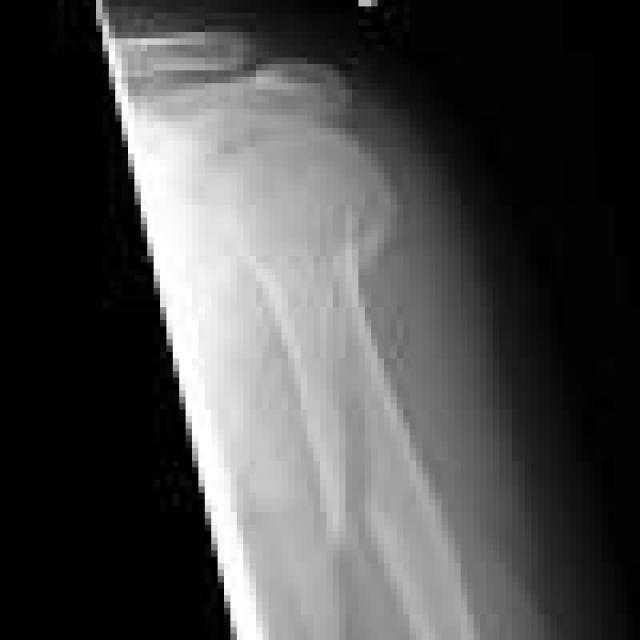Spiral: (211, 114, 455, 556)
